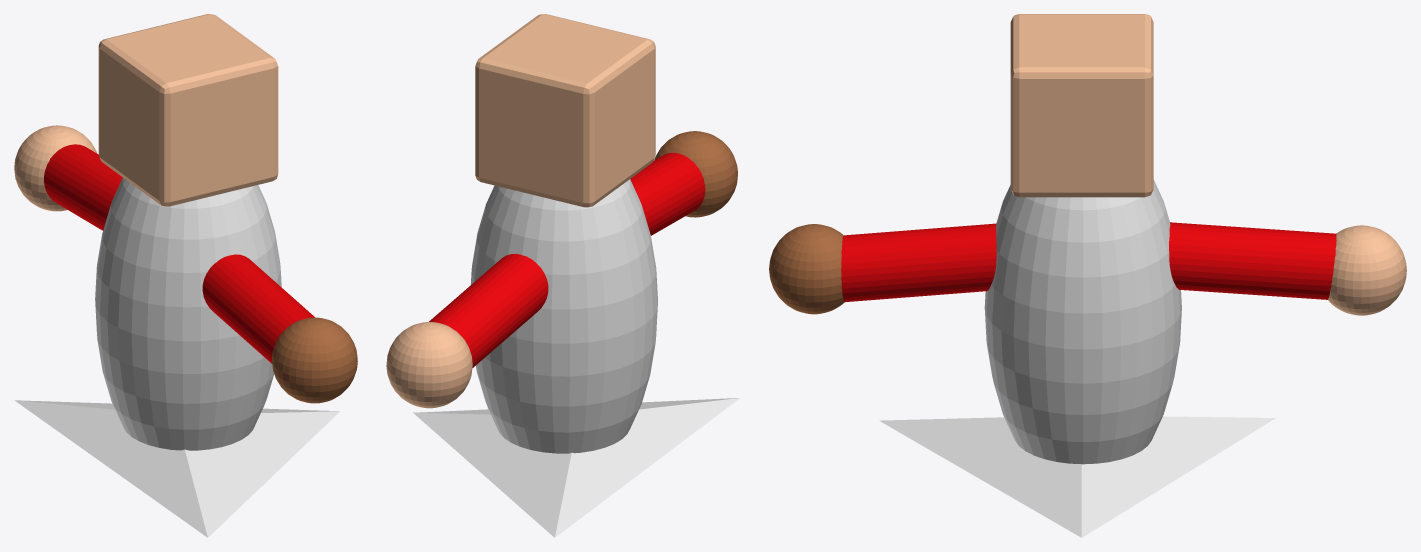
File: OutFielder2.fbx
3 renders of one model, left to right at view 1: azimuth 30°, elevation 25°; view 2: azimuth 150°, elevation 25°; view 3: azimuth 270°, elevation 25°, orthographic. The views are drawn at different scales.
Visible parts, largest first — view 1: 立方体.002, 立方体.003; view 2: 立方体.002, 立方体.003; view 3: 立方体.002, 立方体.003.
Boxes of the visible parts, <box> form: 立方体.002: <box>14,14,357,450</box>; 立方体.003: <box>14,400,339,537</box>; 立方体.002: <box>386,14,737,453</box>; 立方体.003: <box>413,398,739,537</box>; 立方体.002: <box>769,14,1406,464</box>; 立方体.003: <box>879,416,1275,537</box>.
Bounding box in the file's own units: 51.69 × 84.42 × 116.
